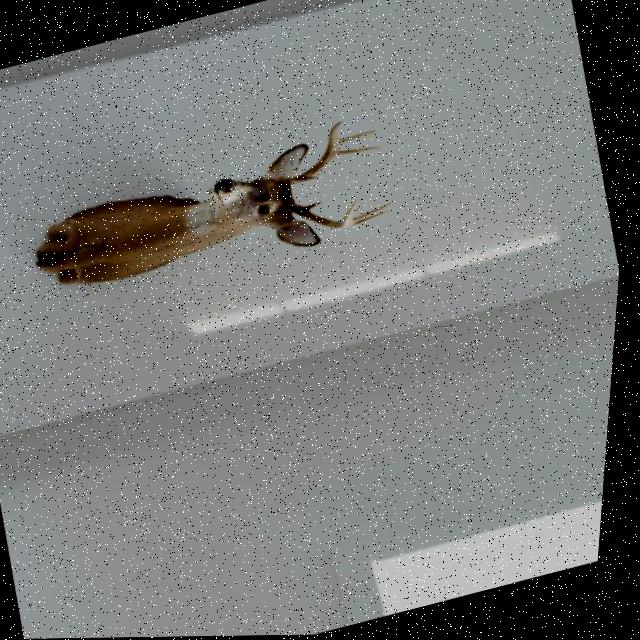E1: (357, 208, 363, 214)
L-F: (288, 122, 344, 185)
L-G1: (300, 177, 321, 183)
L-G2: (338, 148, 383, 157)
L-G3: (339, 131, 378, 146)
R-F: (285, 200, 359, 229)
R-G1: (305, 202, 324, 212)
R-G2: (347, 212, 392, 229)
R-G3: (354, 203, 393, 225)
